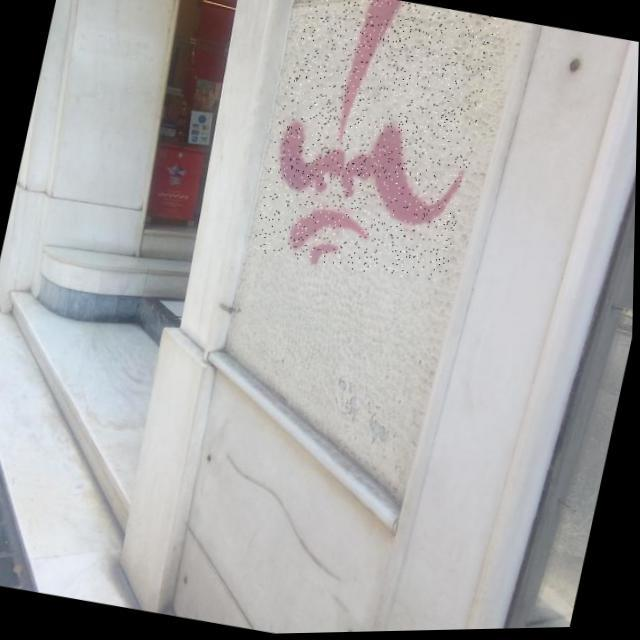-: (252, 0, 502, 291)
